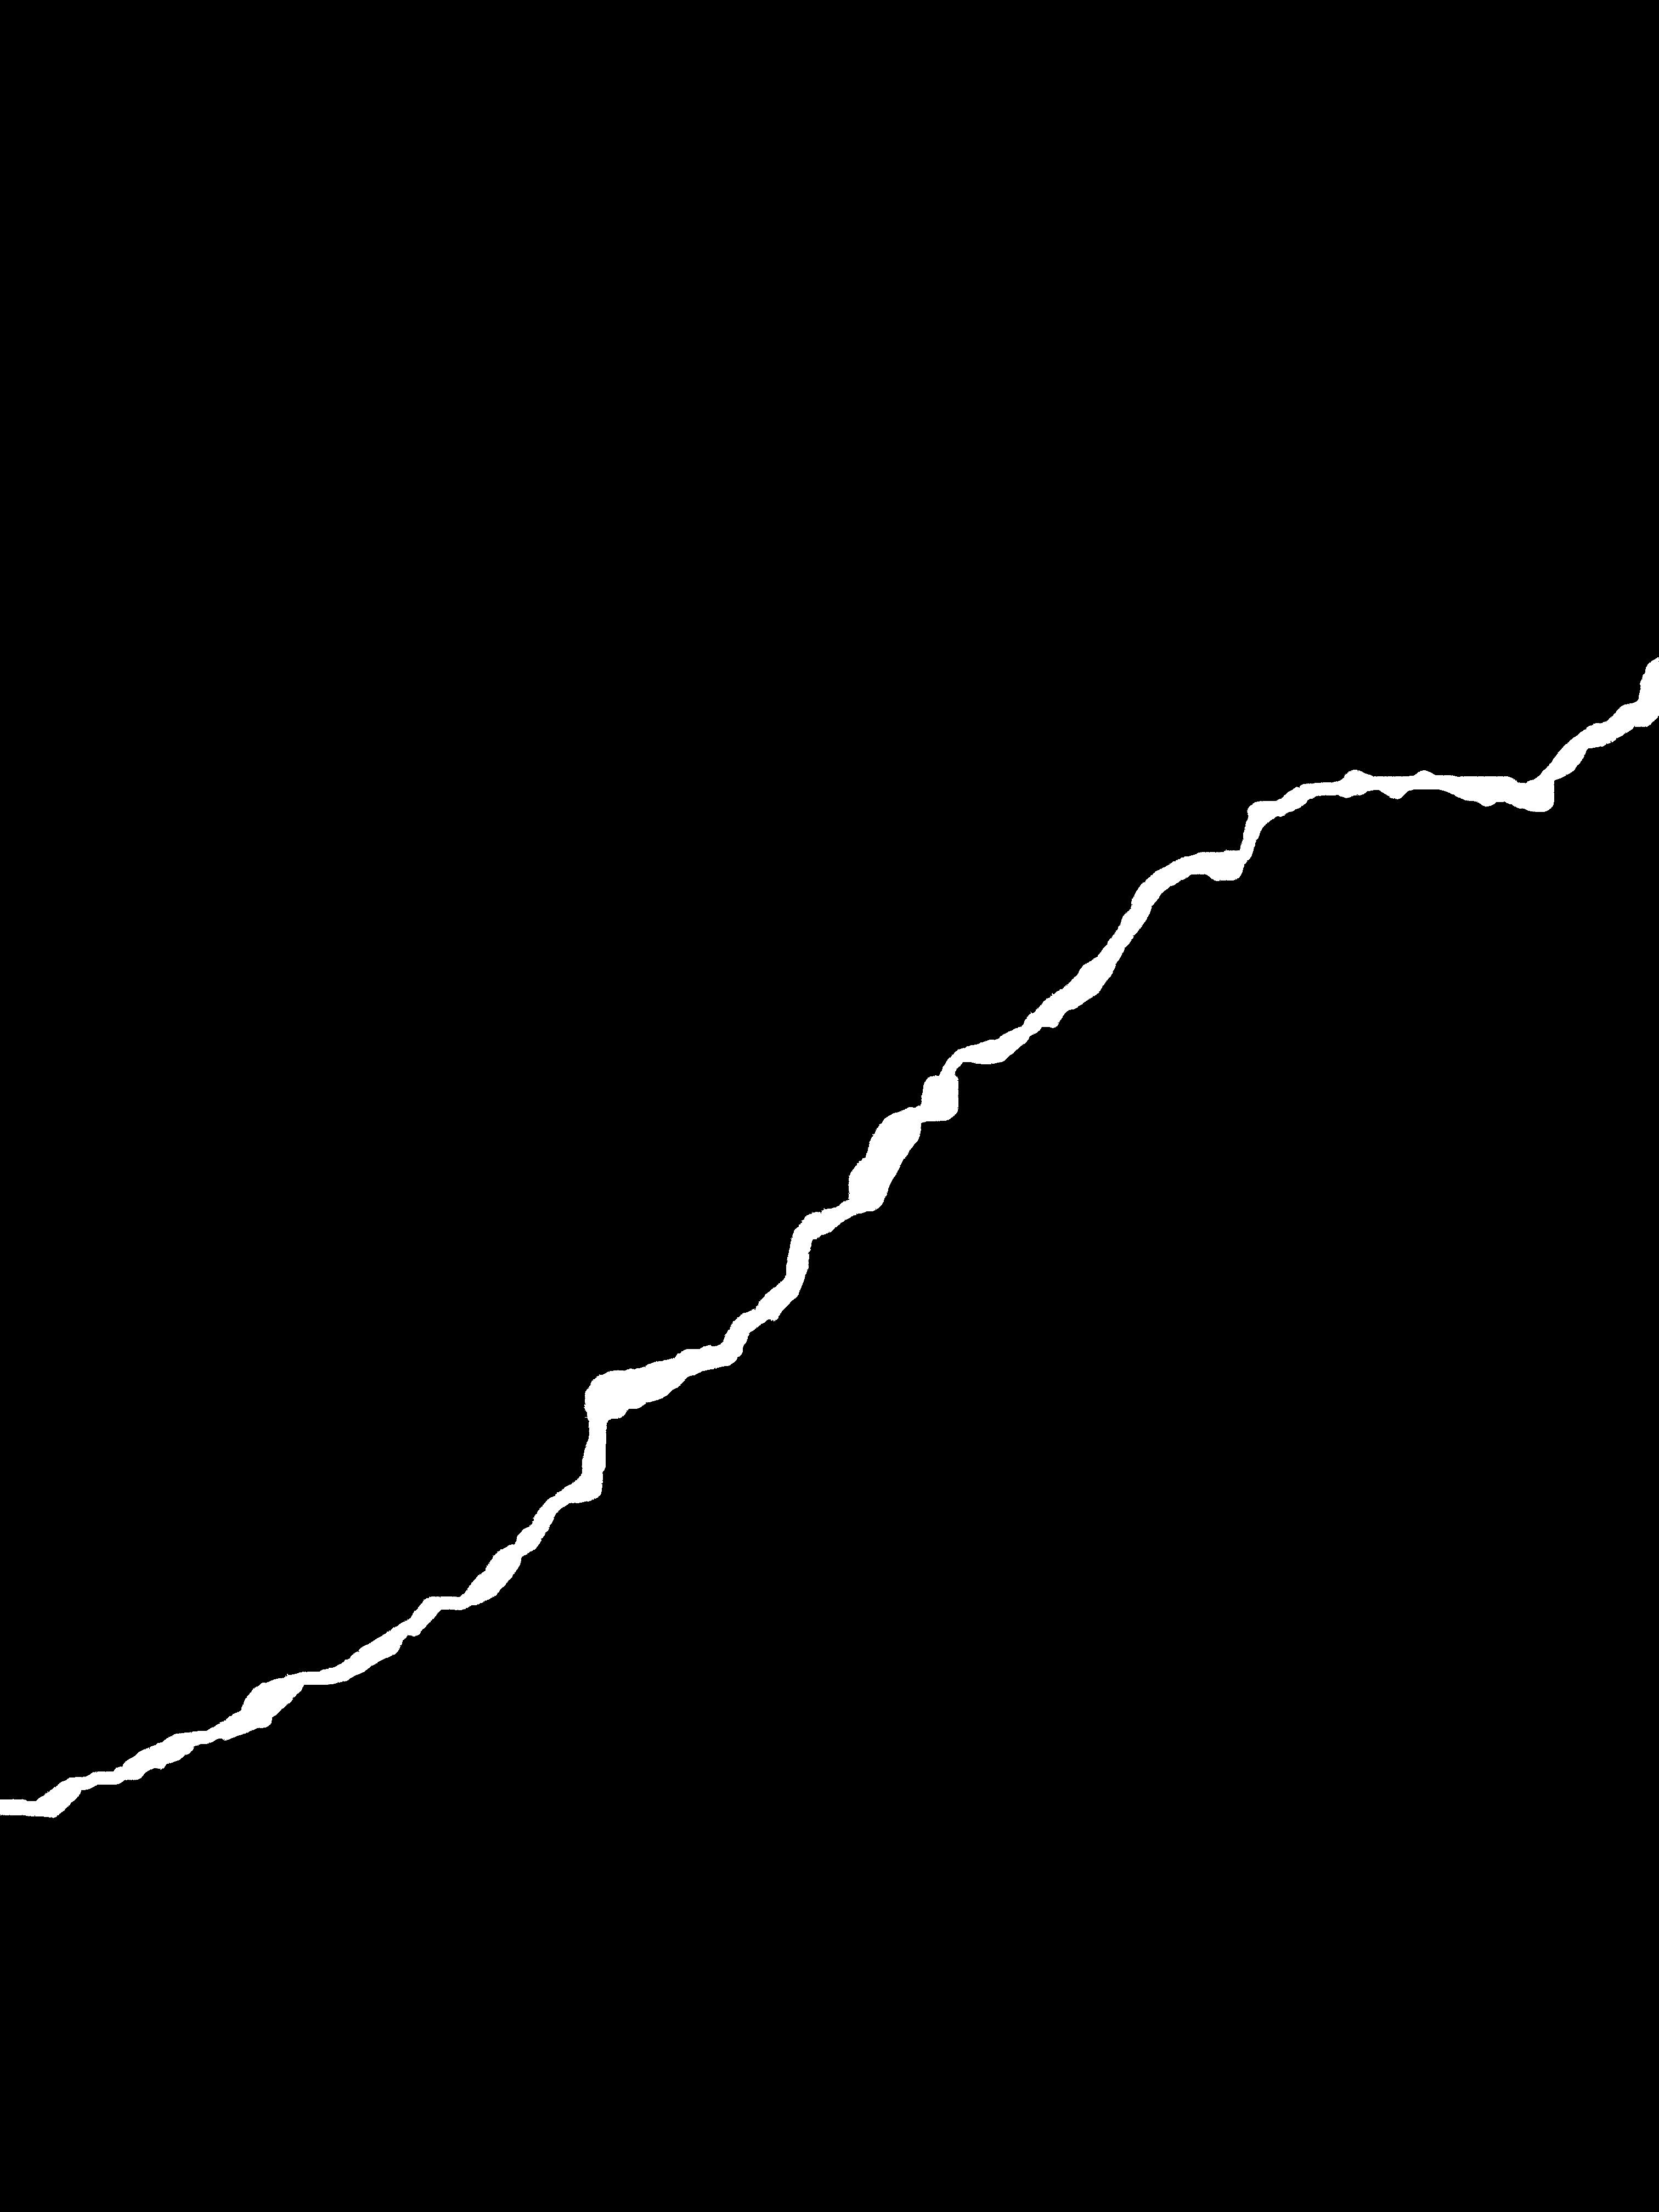Crack: (0, 617, 1659, 1846)
